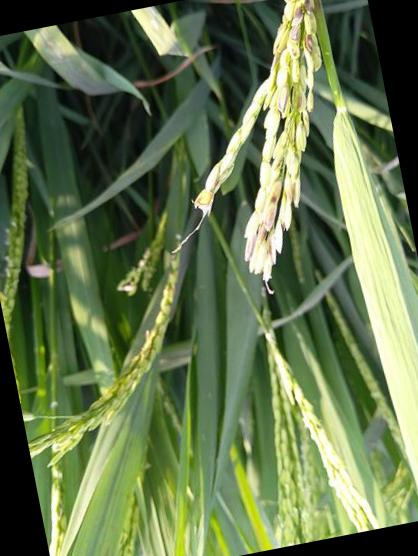Panicle Blight: (245, 177, 282, 260), (289, 10, 304, 42), (268, 240, 276, 262), (299, 122, 306, 147), (280, 93, 288, 114), (306, 34, 314, 51), (298, 94, 303, 112), (304, 0, 312, 11), (287, 188, 293, 201), (285, 0, 297, 4)
